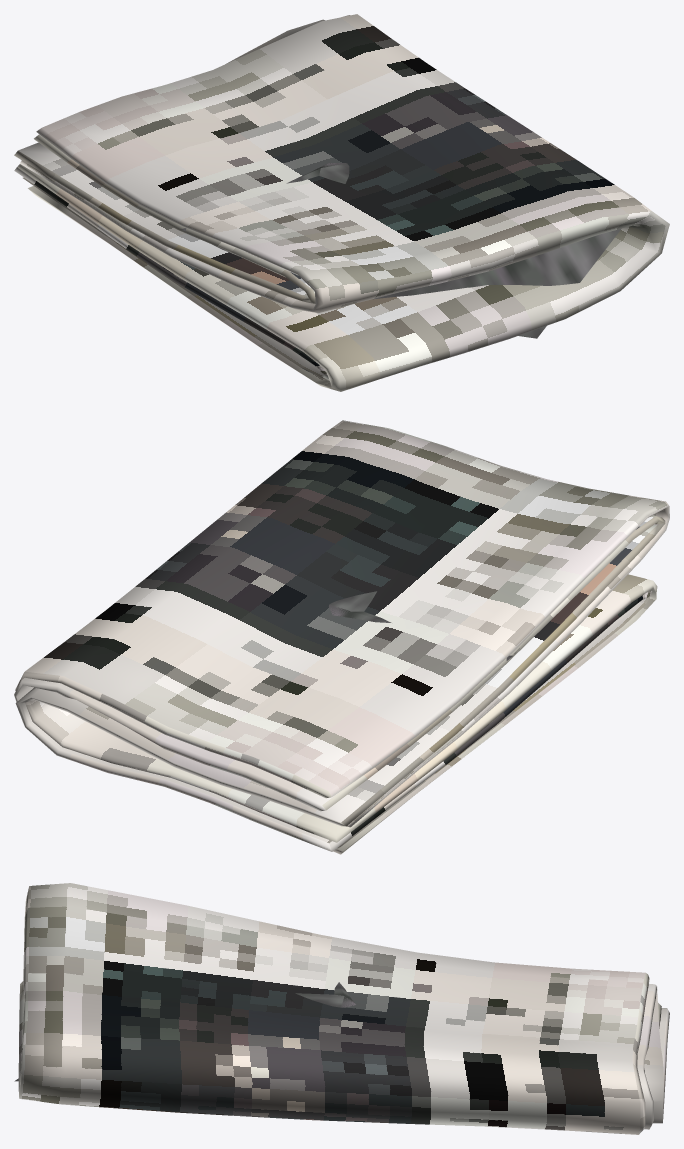
The model's file is 069_newspaper02a.fbx.
3 views of the same model, one above another, from view 1: azimuth 30°, elevation 25°; view 2: azimuth 150°, elevation 25°; view 3: azimuth 270°, elevation 25° (orthographic).
Visible parts, largest first — view 1: LOD_1_Group_0_Sub_1__sm36_069_NewsPaper02A_A_Mat, LOD_1_Group_0_Sub_2__EmPaperA__EbDefault__3; view 2: LOD_1_Group_0_Sub_1__sm36_069_NewsPaper02A_A_Mat, LOD_1_Group_0_Sub_2__EmPaperA__EbDefault__3; view 3: LOD_1_Group_0_Sub_1__sm36_069_NewsPaper02A_A_Mat, LOD_1_Group_0_Sub_2__EmPaperA__EbDefault__3.
Part boxes in pixels (x1=…): LOD_1_Group_0_Sub_1__sm36_069_NewsPaper02A_A_Mat: x1=14, y1=14, x2=669, y2=391; LOD_1_Group_0_Sub_2__EmPaperA__EbDefault__3: x1=181, y1=163, x2=621, y2=338; LOD_1_Group_0_Sub_1__sm36_069_NewsPaper02A_A_Mat: x1=14, y1=420, x2=669, y2=854; LOD_1_Group_0_Sub_2__EmPaperA__EbDefault__3: x1=329, y1=591, x2=519, y2=660; LOD_1_Group_0_Sub_1__sm36_069_NewsPaper02A_A_Mat: x1=18, y1=883, x2=669, y2=1134; LOD_1_Group_0_Sub_2__EmPaperA__EbDefault__3: x1=14, y1=982, x2=355, y2=1081.
Bounding box in the file's own units: 0.1841 × 0.0699 × 0.2979.
